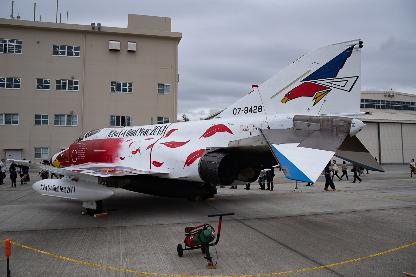F35: (6, 38, 384, 215)
